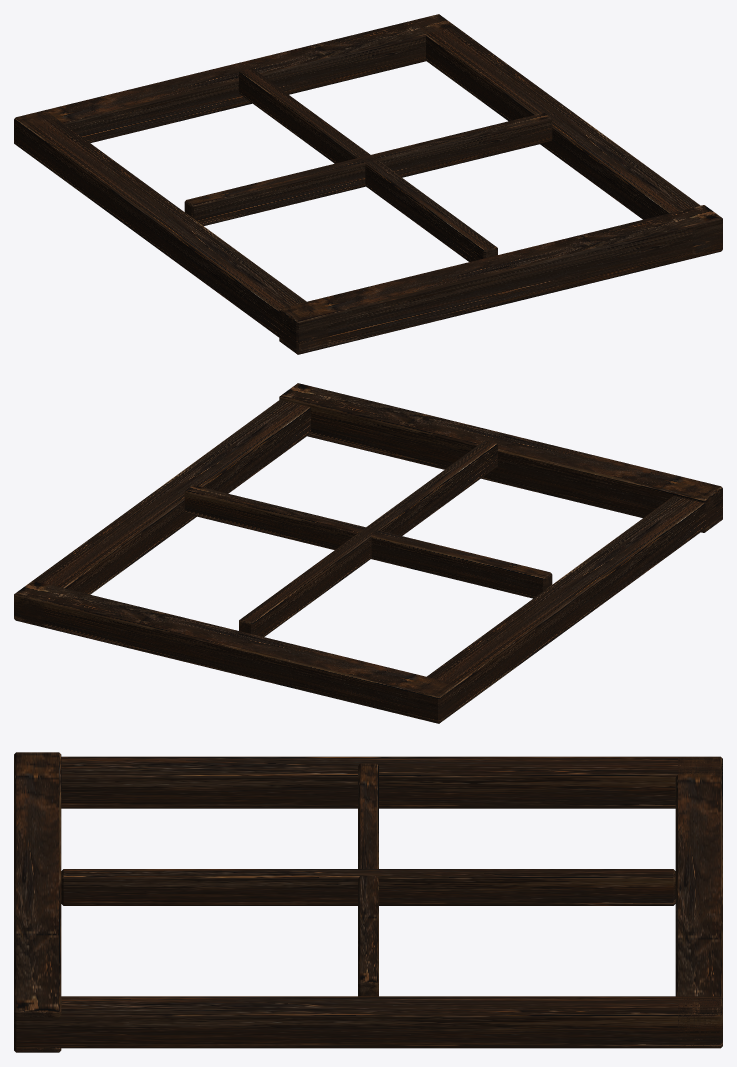
The model's file is level1_window_frame_remodel.glb.
3 renders of one model, top to bottom at view 1: azimuth 30°, elevation 25°; view 2: azimuth 150°, elevation 25°; view 3: azimuth 270°, elevation 25°, orthographic. The views are drawn at different scales.
Parts seen in each view (by area): view 1: WindowSill, WindowJambLeft, WindowHead, WindowJambRight, WindowMullionHorizontal, WindowMullionVertical; view 2: WindowSill, WindowHead, WindowJambLeft, WindowJambRight, WindowMullionHorizontal, WindowMullionVertical; view 3: WindowJambRight, WindowJambLeft, WindowMullionVertical, WindowSill, WindowHead, WindowMullionHorizontal.
Boxes of the visible parts, x1,y1,x2,y2 form: WindowSill: (279, 205, 722, 354); WindowJambLeft: (14, 111, 328, 350); WindowHead: (16, 14, 455, 142); WindowJambRight: (410, 14, 722, 253); WindowMullionHorizontal: (184, 112, 552, 225); WindowMullionVertical: (239, 68, 497, 261); WindowSill: (279, 383, 722, 532); WindowHead: (15, 580, 457, 723); WindowJambLeft: (408, 492, 722, 723); WindowJambRight: (14, 399, 310, 626); WindowMullionHorizontal: (184, 485, 552, 598); WindowMullionVertical: (239, 440, 497, 636); WindowJambRight: (14, 996, 722, 1048); WindowJambLeft: (61, 756, 722, 808); WindowMullionVertical: (61, 869, 675, 905); WindowSill: (14, 752, 61, 1052); WindowHead: (675, 756, 722, 1047); WindowMullionHorizontal: (358, 763, 378, 996).
Bounding box in the file's own units: 1.3 × 0.12 × 1.5.
1 material, 1 textured.
